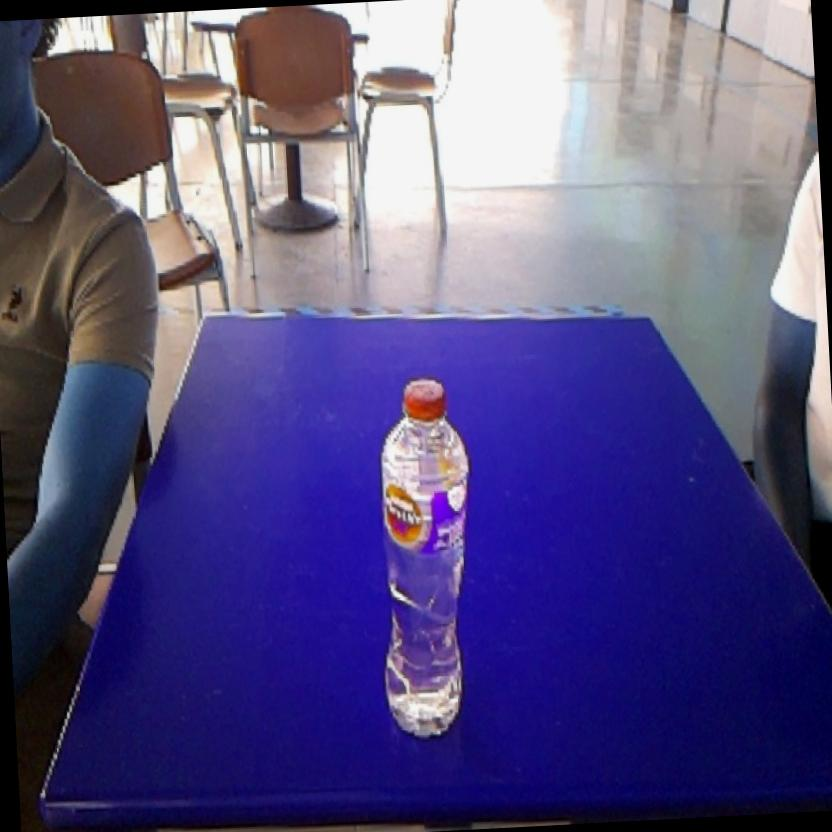good: (356, 364, 489, 756)
